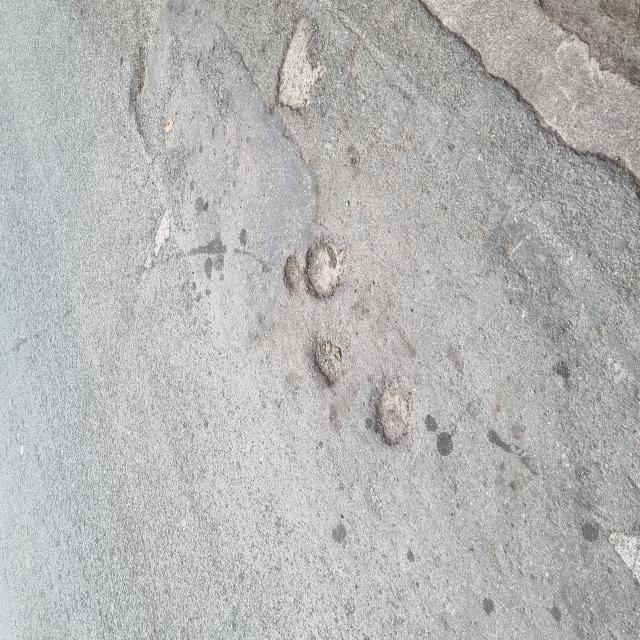pothole: (216, 218, 362, 323), (251, 12, 358, 136), (361, 385, 442, 485), (294, 326, 362, 406)
